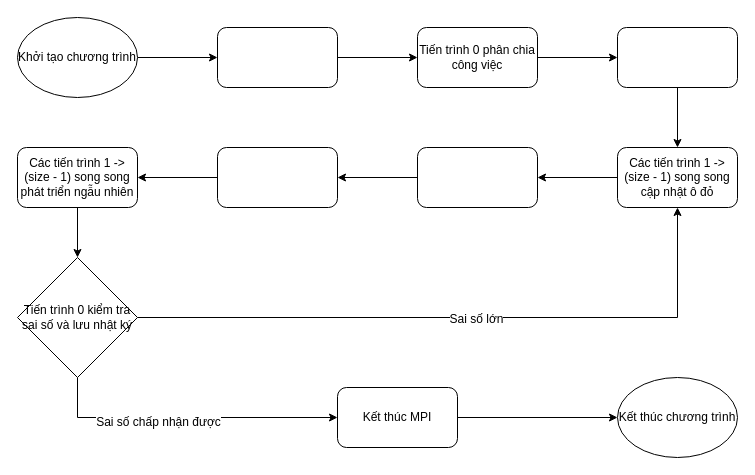
The diagram is 755 pixels wide and 475 high, and some of its shapes have lost their labels. Here are the shapes that lost their labels. From the top down, the centre of each, then its label:
At point (277, 57): "Khởi tạo MPI".
At point (677, 57): "Các tiến trình 1 -> (size - 1) nhận công việc".
At point (277, 177): "Các tiến trình 1 -> (size - 1) song song tính xác suất phát triển".
At point (477, 177): "Các tiến trình 1 -> (size - 1) song song cập nhật ô đen".
